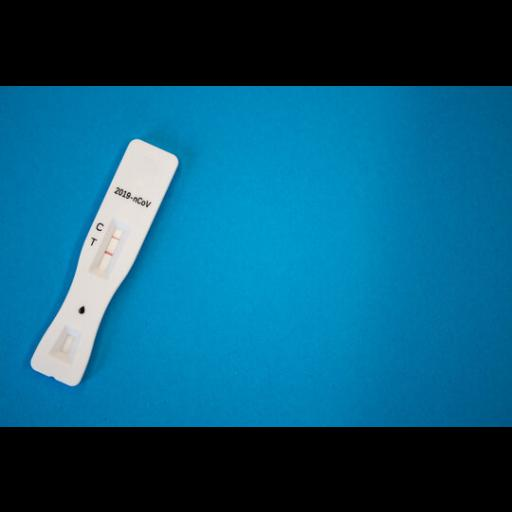Pos: (26, 135, 185, 387)
